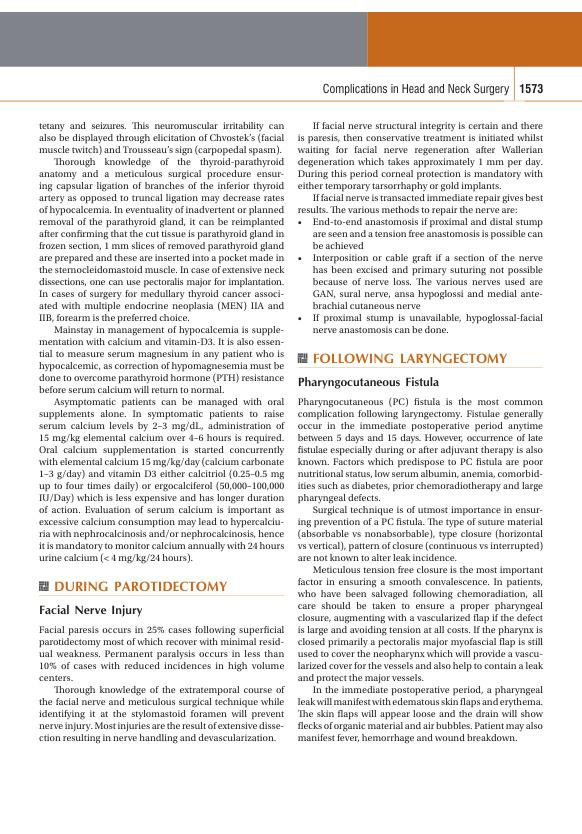header: (322, 82, 510, 97)
list: (295, 216, 543, 335)
section-heading: (312, 351, 509, 365), (53, 580, 229, 592)
sub-section-heading: (296, 376, 440, 390), (38, 603, 144, 618)
text: (37, 121, 286, 565), (296, 396, 544, 745), (37, 624, 286, 745), (296, 121, 545, 216)
